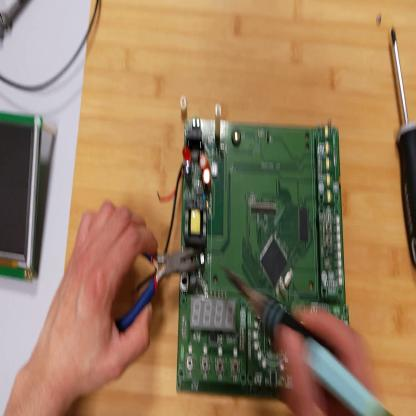hand: (48, 200, 160, 391), (271, 306, 380, 414)
low voltage board: (132, 95, 352, 395)
oscilloscope probe tip: (1, 3, 22, 37)
pliers: (118, 249, 202, 335)
screwdriver-: (392, 27, 416, 266)
welder probe tip: (210, 260, 392, 416)
working area: (65, 3, 416, 415)
